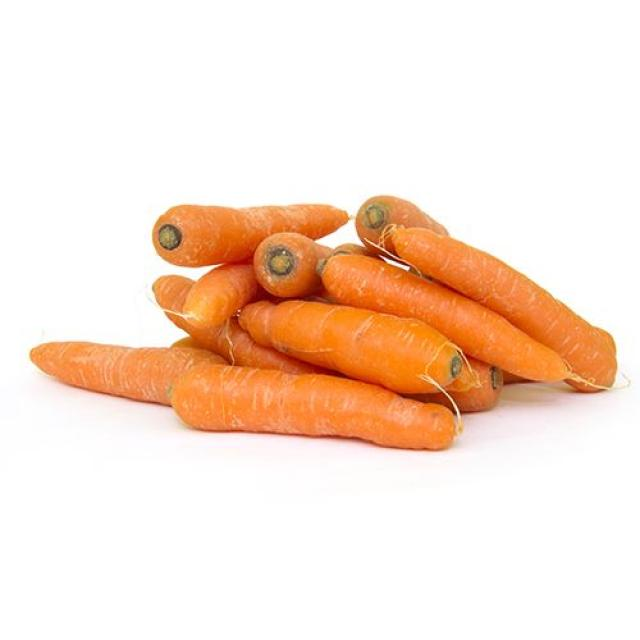Fresh_Carrot: (315, 254, 620, 379), (176, 347, 465, 456), (149, 198, 334, 250)
